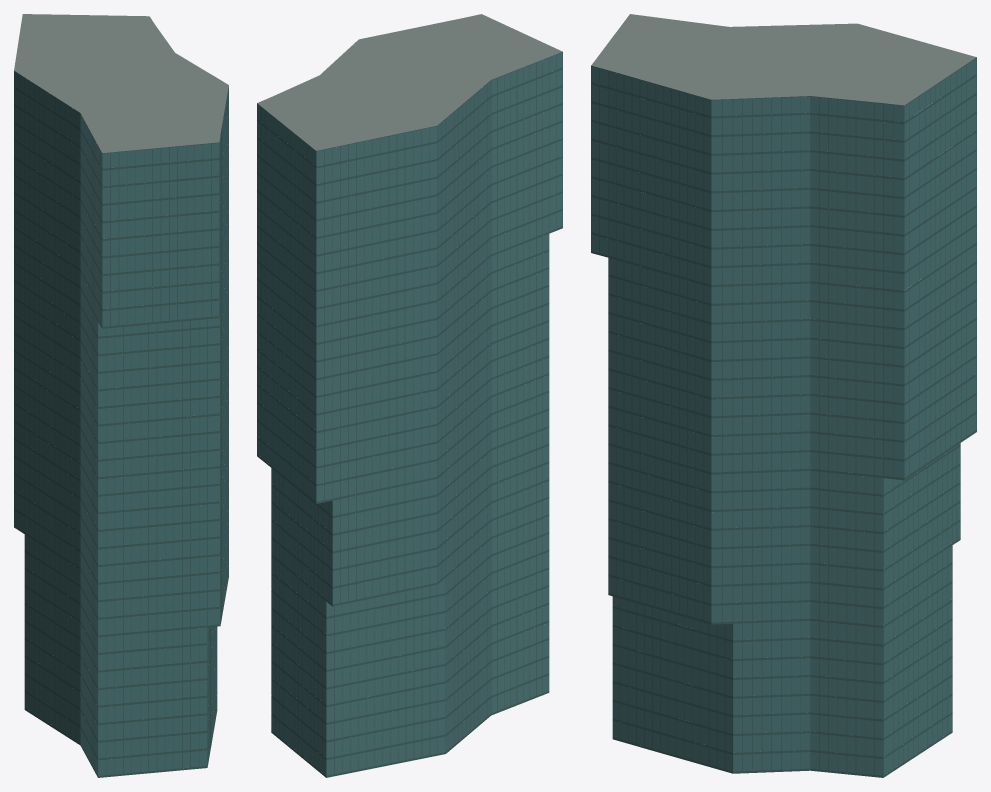
File: prime-tower-zurich-near.glb
3 renders of one model, left to right at view 1: azimuth 30°, elevation 25°; view 2: azimuth 150°, elevation 25°; view 3: azimuth 270°, elevation 25°, orthographic. The views are drawn at different scales.
Visible parts, largest first — view 1: prime-tower-zurich-0-glass, prime-tower-zurich-0-frame, prime-tower-zurich-0-roof; view 2: prime-tower-zurich-0-glass, prime-tower-zurich-0-frame, prime-tower-zurich-0-roof; view 3: prime-tower-zurich-0-glass, prime-tower-zurich-0-frame, prime-tower-zurich-0-roof.
Boxes of the visible parts, box(x1,y1,x2,y2) form: prime-tower-zurich-0-glass: box(14, 71, 228, 775); prime-tower-zurich-0-frame: box(14, 71, 228, 777); prime-tower-zurich-0-roof: box(14, 14, 228, 153); prime-tower-zurich-0-glass: box(257, 52, 562, 775); prime-tower-zurich-0-frame: box(257, 52, 562, 777); prime-tower-zurich-0-roof: box(257, 14, 562, 150); prime-tower-zurich-0-glass: box(591, 58, 976, 775); prime-tower-zurich-0-frame: box(591, 57, 976, 777); prime-tower-zurich-0-roof: box(591, 14, 976, 105).
Bounding box in the file's own units: 36.67 × 126 × 65.28.
